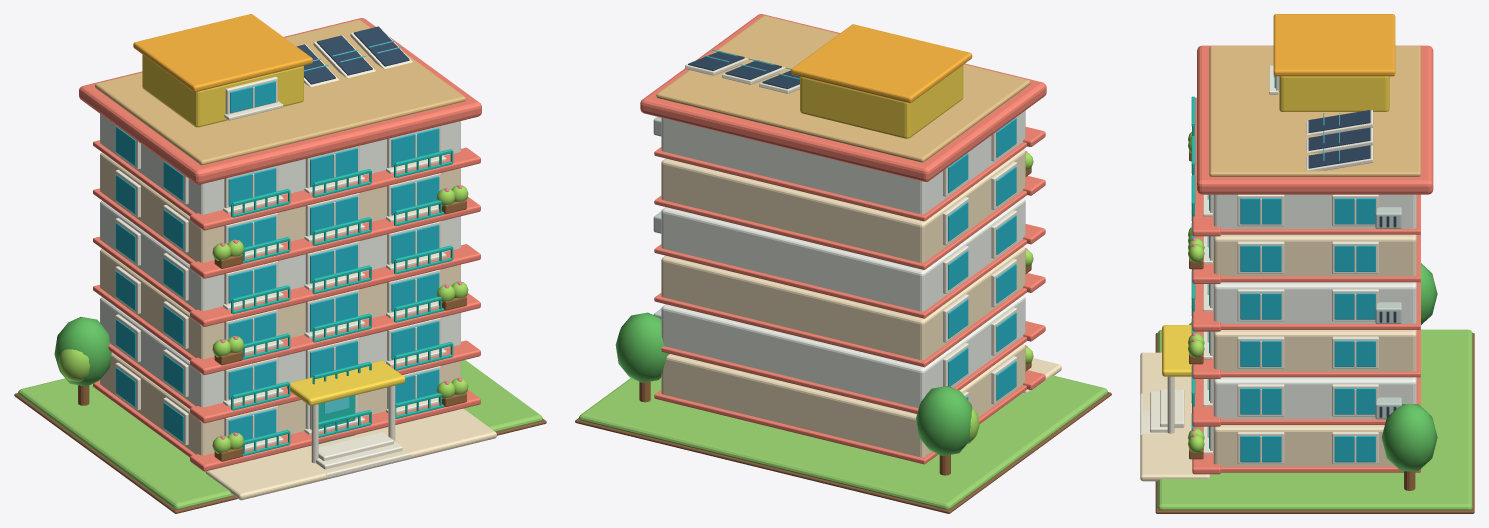
File: SM_Building_Stage4.fbx
3 views of the same model, side by side, from view 1: azimuth 30°, elevation 25°; view 2: azimuth 150°, elevation 25°; view 3: azimuth 270°, elevation 25° (orthographic). The views are drawn at different scales.
Parts seen in each view (by area): view 1: Roof inner terrace, Beveled site foundation.004, Thick overhanging roof, Roof room cap, Entrance stone plaza, Residential floor volume.003, Residential floor volume.001, Residential floor volume.002, Residential floor volume.004, Residential floor volume, Residential floor volume.005, Roof garden room (+39 smaller); view 2: Beveled site foundation.004, Roof inner terrace, Residential floor volume.002, Residential floor volume.004, Residential floor volume.003, Residential floor volume.001, Residential floor volume, Residential floor volume.005, Thick overhanging roof, Roof room cap, Roof garden room, Garden crown (+10 smaller); view 3: Beveled site foundation.004, Roof inner terrace, Thick overhanging roof, Roof room cap, Residential floor volume.004, Residential floor volume.002, Residential floor volume.003, Residential floor volume.001, Residential floor volume, Entrance stone plaza, Roof garden room, Residential floor volume.005 (+52 smaller).
Part boxes in pixels (x1,y1,x2,y2): Roof inner terrace: (95, 19, 465, 165); Beveled site foundation.004: (18, 360, 542, 509); Thick overhanging roof: (79, 18, 481, 184); Roof room cap: (133, 14, 312, 92); Entrance stone plaza: (205, 408, 496, 500); Residential floor volume.003: (100, 200, 460, 310); Residential floor volume.001: (100, 297, 460, 407); Residential floor volume.002: (100, 249, 460, 359); Residential floor volume.004: (100, 152, 460, 262); Residential floor volume: (100, 352, 460, 455); Residential floor volume.005: (100, 114, 460, 214); Roof garden room: (142, 54, 303, 127); Beveled site foundation.004: (579, 375, 1107, 509); Roof inner terrace: (656, 15, 1030, 162); Residential floor volume.002: (661, 246, 1025, 360); Residential floor volume.004: (661, 149, 1025, 262); Residential floor volume.003: (661, 198, 1025, 311); Residential floor volume.001: (661, 295, 1025, 408); Residential floor volume: (661, 344, 1025, 457); Residential floor volume.005: (661, 110, 1025, 214); Thick overhanging roof: (640, 14, 1046, 181); Roof room cap: (791, 24, 972, 103); Roof garden room: (800, 65, 963, 138); Garden crown: (916, 386, 972, 456); Beveled site foundation.004: (1157, 329, 1472, 510); Roof inner terrace: (1209, 46, 1420, 176); Thick overhanging roof: (1197, 45, 1433, 194); Roof room cap: (1273, 14, 1395, 76); Residential floor volume.004: (1213, 234, 1416, 276); Residential floor volume.002: (1213, 330, 1416, 371); Residential floor volume.003: (1213, 282, 1416, 323); Residential floor volume.001: (1213, 377, 1416, 419); Residential floor volume: (1213, 425, 1395, 466); Entrance stone plaza: (1140, 352, 1210, 481); Roof garden room: (1279, 76, 1389, 111); Residential floor volume.005: (1213, 194, 1416, 228).
Size of the model in its own units: 12.12 by 11.36 by 9.56.
